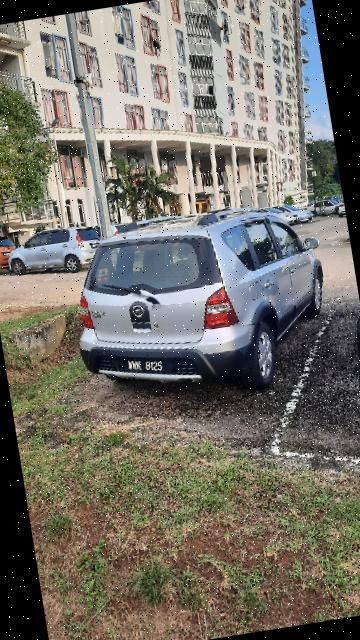License_Plate: (112, 343, 185, 391)
car: (58, 191, 343, 422)
